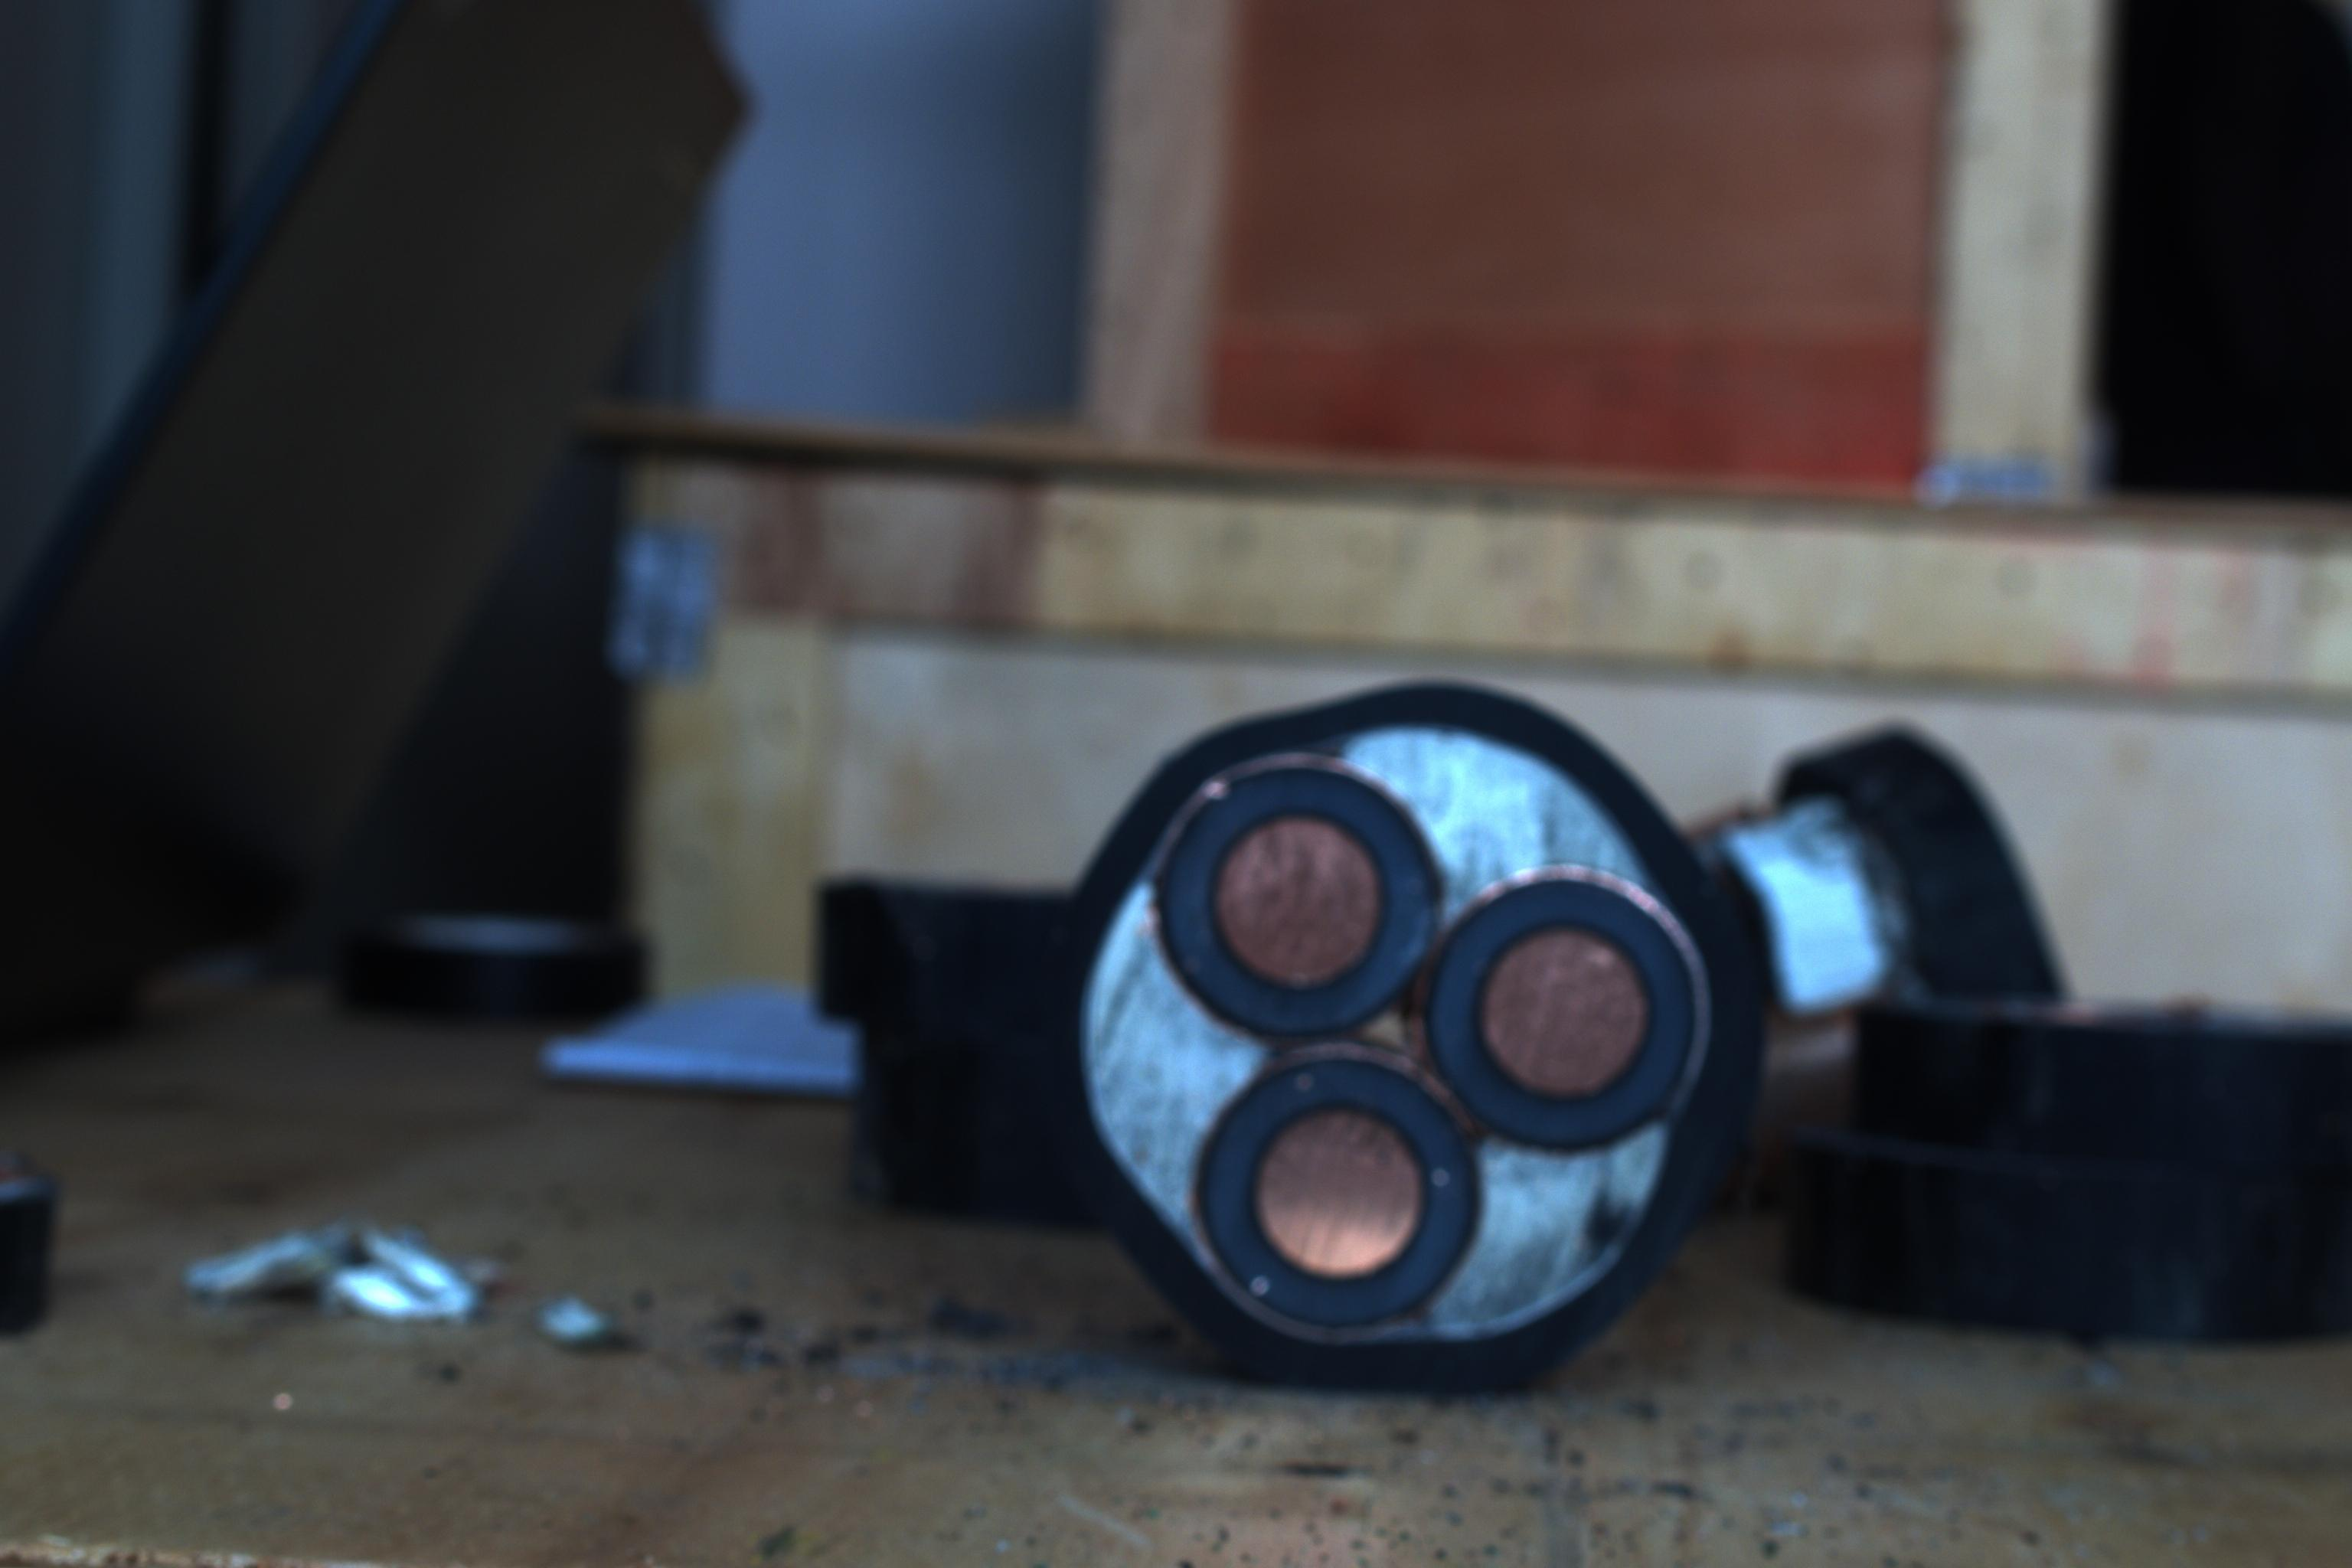ZA_YJV_8.7_10kV_3x240: (1076, 731, 1734, 1375)
